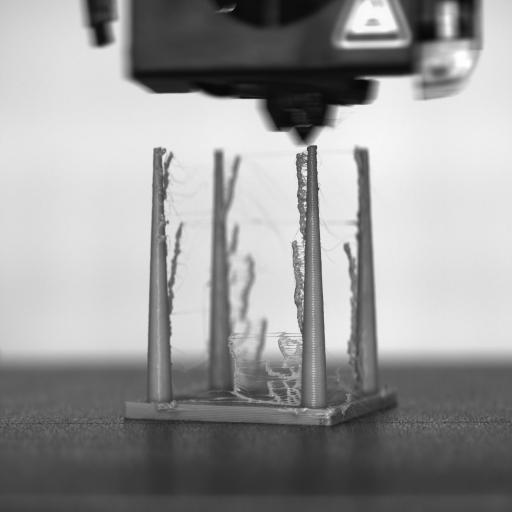spaghetti_and_stringing: (162, 148, 364, 407)
